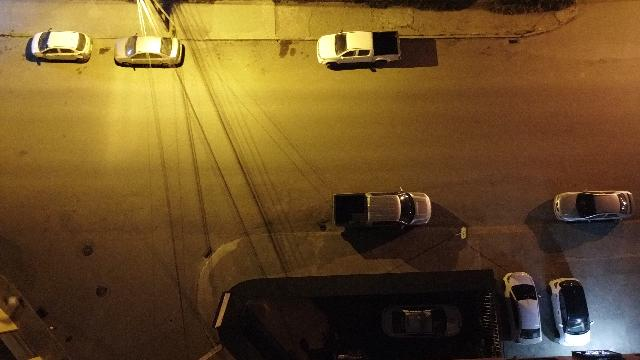Vehiculo: (333, 190, 431, 229), (316, 30, 402, 68), (548, 278, 592, 346), (502, 272, 542, 344), (554, 190, 634, 222), (114, 35, 184, 68), (32, 29, 92, 63)
